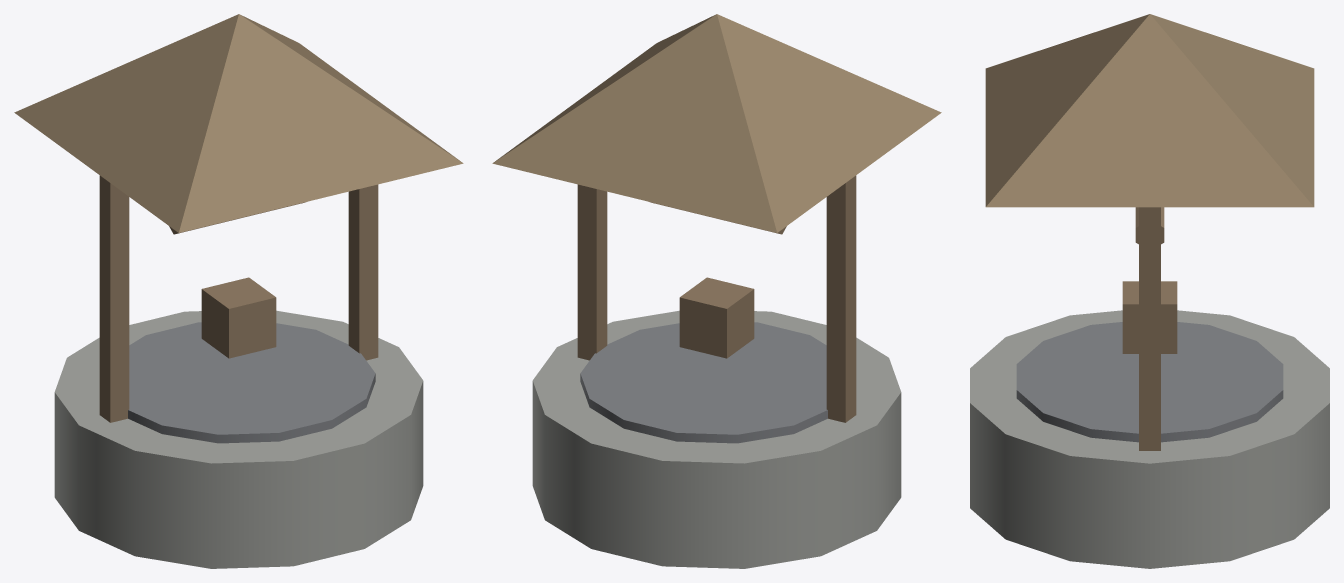
The model's file is well.fbx.
3 views of the same model, side by side, from view 1: azimuth 30°, elevation 25°; view 2: azimuth 150°, elevation 25°; view 3: azimuth 270°, elevation 25° (orthographic).
Visible parts, largest first — view 1: well; view 2: well; view 3: well.
Boxes of the visible parts, x1,y1,x2,y2 form: well: (14,14,463,568); well: (492,14,941,568); well: (970,14,1329,568).
Bounding box in the file's own units: 270 × 385 × 263.
